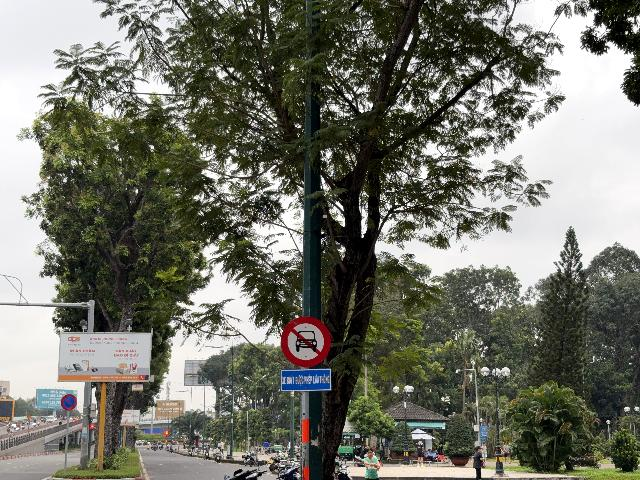cam-o-to: (281, 317, 331, 367)
